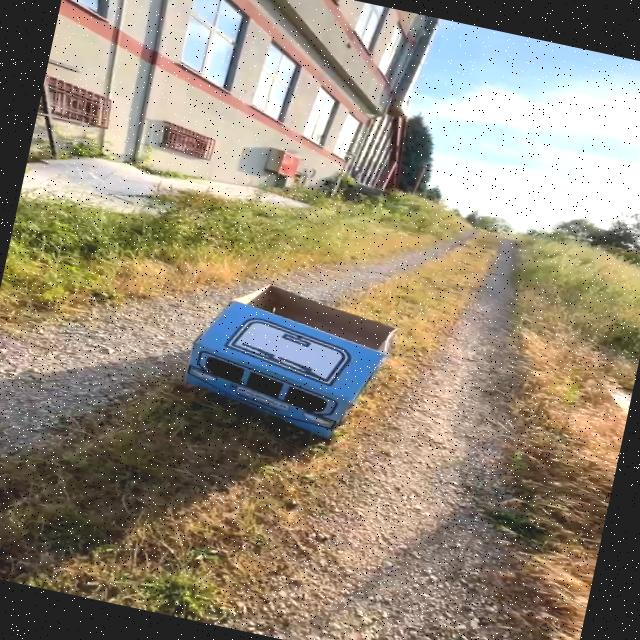blue_car: (113, 242, 459, 495)
